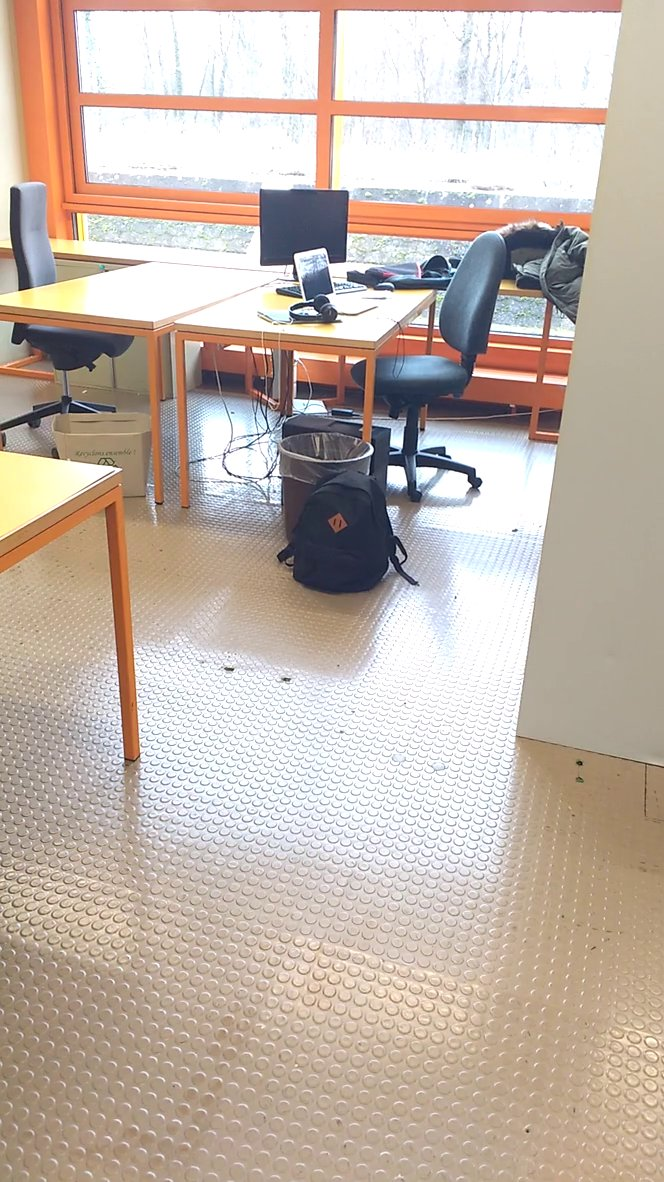bag: (275, 463, 429, 600)
bin: (266, 420, 390, 497)
box: (45, 408, 167, 502)
chair: (364, 226, 513, 426), (4, 174, 127, 379)
laptop: (287, 245, 382, 320)
